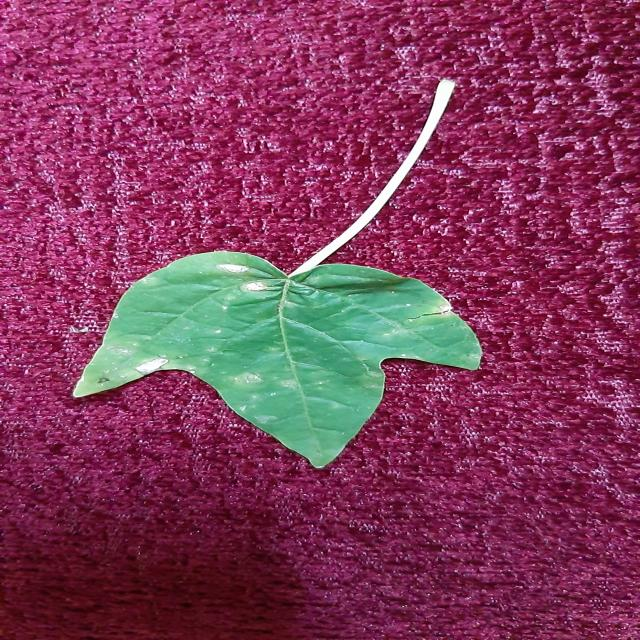papaya: (73, 251, 482, 468)
